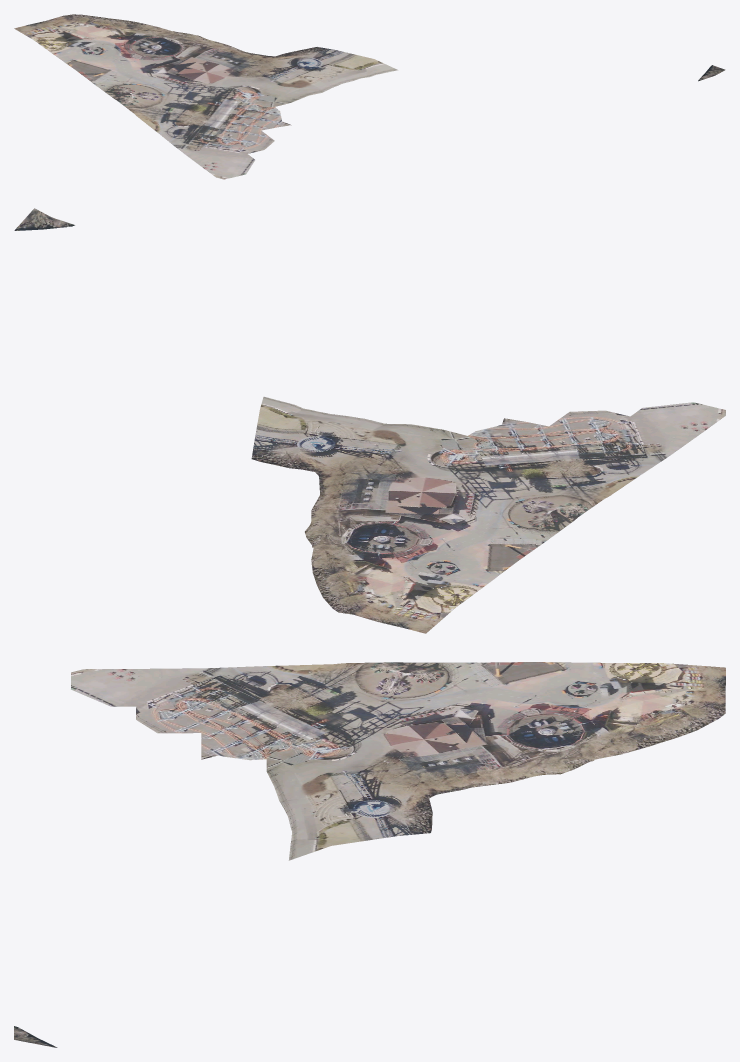
Rendered from CM_Terrain_24486568_6821841.fbx.
3 renders of one model, top to bottom at view 1: azimuth 30°, elevation 25°; view 2: azimuth 150°, elevation 25°; view 3: azimuth 270°, elevation 25°, orthographic. The views are drawn at different scales.
Visible parts, largest first — view 1: CM_Terrain_24486568_6821841_LOD0; view 2: CM_Terrain_24486568_6821841_LOD0; view 3: CM_Terrain_24486568_6821841_LOD0.
Boxes of the visible parts, x1,y1,x2,y2 form: CM_Terrain_24486568_6821841_LOD0: (14,14,725,179); CM_Terrain_24486568_6821841_LOD0: (14,208,725,633); CM_Terrain_24486568_6821841_LOD0: (14,662,725,1047).
Size of what is drawn, in the model's own units: 205 by 3.28 by 163.
